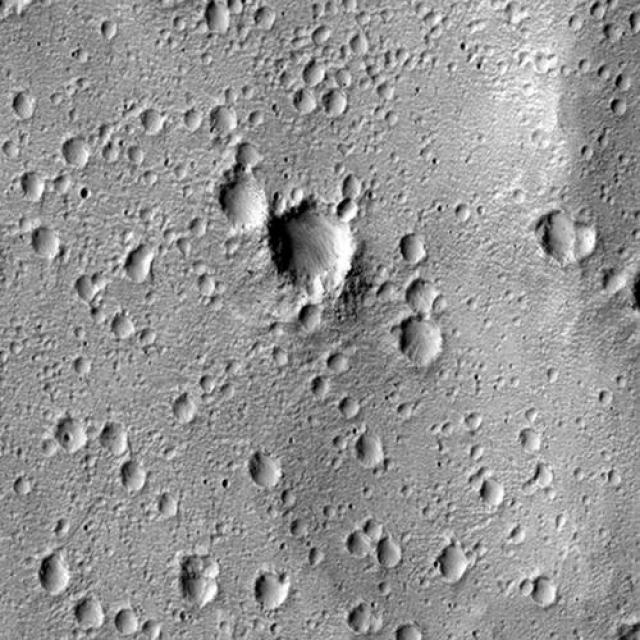crater: (248, 186, 368, 302), (516, 190, 626, 274), (376, 299, 470, 381), (332, 412, 410, 490), (24, 397, 107, 466), (169, 539, 238, 619), (248, 548, 310, 622), (34, 545, 94, 607), (242, 430, 292, 502), (614, 228, 640, 354), (272, 602, 352, 640), (25, 607, 115, 640), (194, 604, 276, 640), (1, 557, 34, 639), (0, 266, 36, 341), (0, 556, 32, 636), (1, 170, 30, 258), (1, 281, 30, 364), (489, 604, 555, 640), (0, 160, 28, 234), (0, 458, 46, 501), (1, 356, 34, 414), (0, 476, 28, 538), (1, 418, 30, 472), (0, 51, 29, 97), (0, 297, 23, 351), (1, 604, 34, 640), (608, 604, 640, 640), (0, 0, 41, 28), (0, 613, 33, 640), (0, 616, 30, 640), (0, 613, 26, 640)
